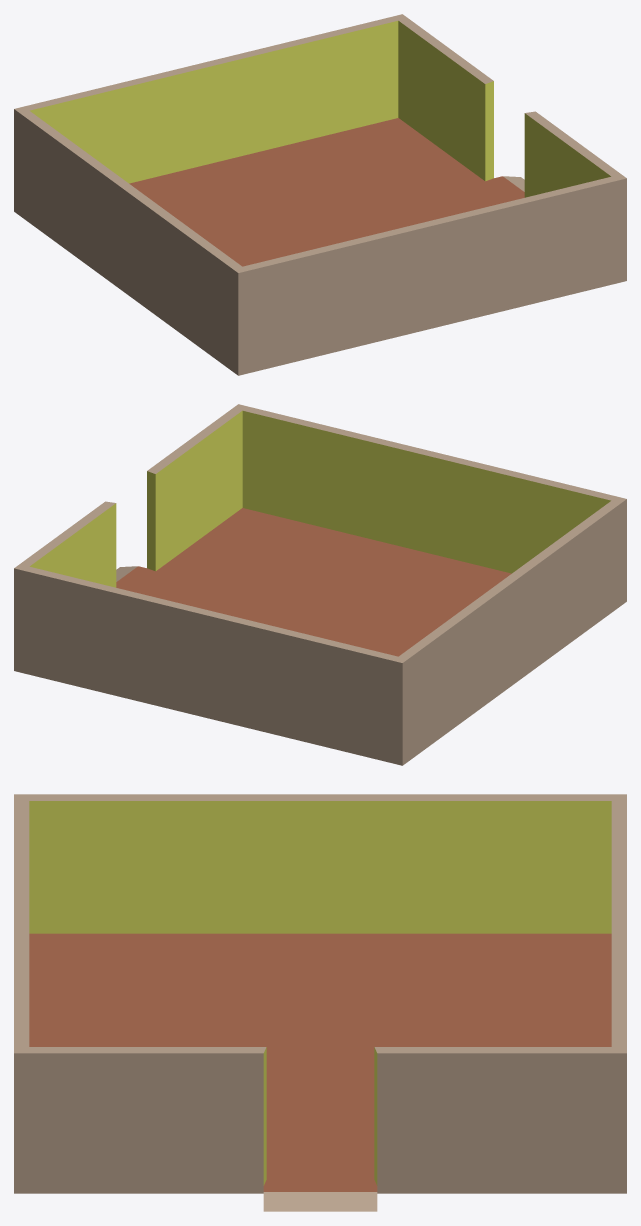
The model's file is house.fbx.
3 renders of one model, top to bottom at view 1: azimuth 30°, elevation 25°; view 2: azimuth 150°, elevation 25°; view 3: azimuth 270°, elevation 25°, orthographic. The views are drawn at different scales.
Visible parts, largest first — view 1: House; view 2: House; view 3: House.
Boxes of the visible parts, <box> form: House: <box>14,14,626,375</box>; House: <box>14,404,626,765</box>; House: <box>14,794,626,1211</box>.
Bounding box in the file's own units: 8.47 × 2 × 7.92.
